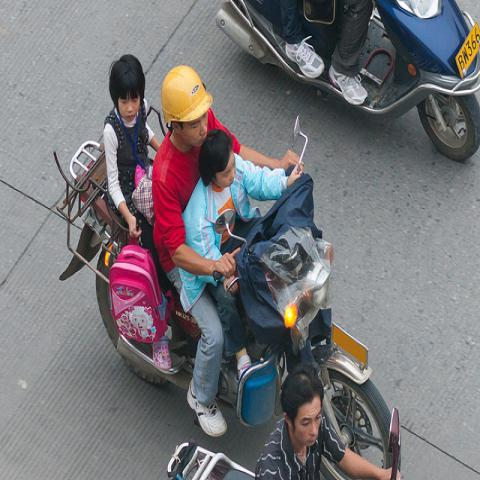motorcycle: (54, 43, 391, 474), (206, 0, 480, 163), (168, 405, 403, 474)
